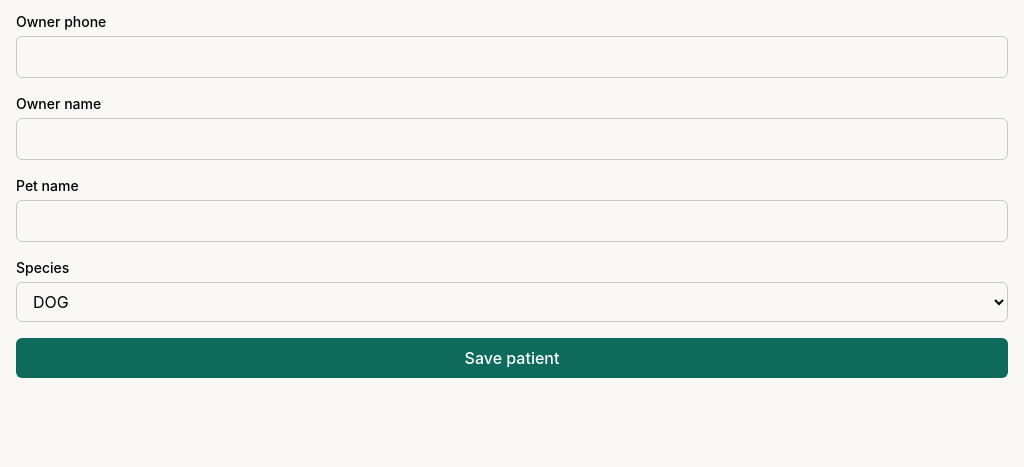
Test: NewPatientForm validation › shows validation errors when submitting an empty form
The image size is (1024, 467).
Click the button "Save patient": (512, 358) x1=16 y1=338 x2=1008 y2=378
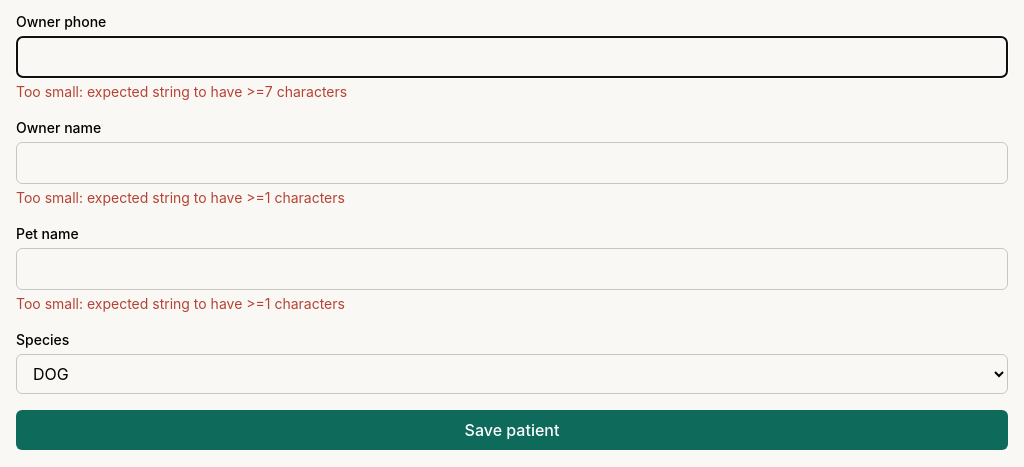
Result: the number of messages is 3 at x1=16 y1=83 x2=347 y2=100; x1=16 y1=189 x2=345 y2=206; x1=16 y1=295 x2=345 y2=312
